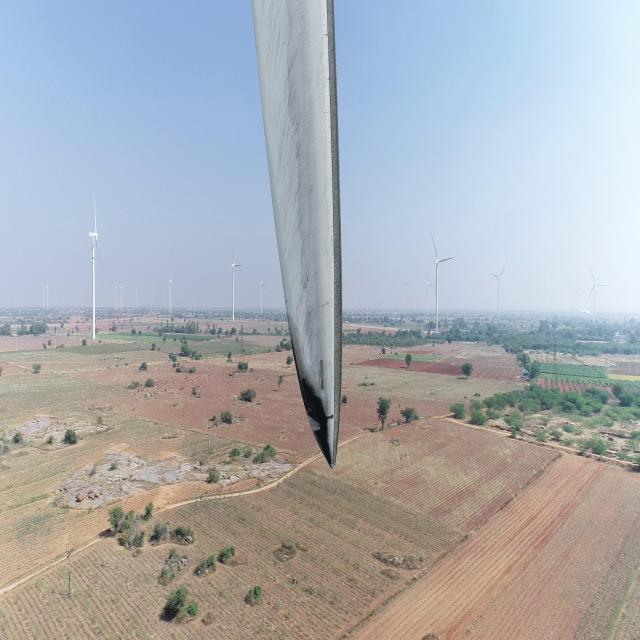Dirt: (261, 0, 344, 469)
Oil LEAKAGE: (292, 322, 340, 462)
